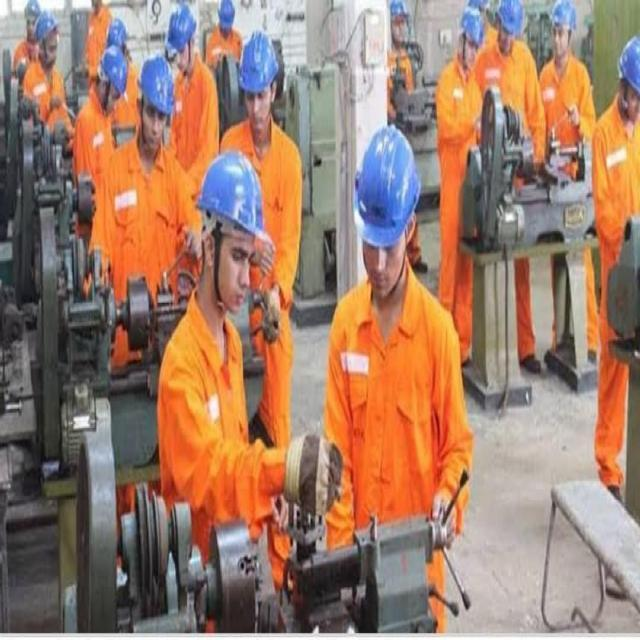reflective_jacket: (318, 270, 465, 608), (223, 129, 309, 343), (108, 137, 187, 307), (589, 103, 639, 284), (488, 39, 544, 181), (538, 50, 594, 187), (432, 54, 484, 184), (15, 51, 66, 141)
safety_helmet: (346, 111, 424, 255), (193, 146, 269, 250), (235, 23, 282, 96), (134, 46, 178, 123), (161, 0, 199, 65), (615, 28, 639, 112), (94, 41, 132, 94), (454, 0, 488, 50), (26, 1, 64, 44), (488, 0, 531, 36), (102, 8, 133, 51), (545, 0, 583, 35), (382, 0, 413, 27), (215, 0, 238, 32)
